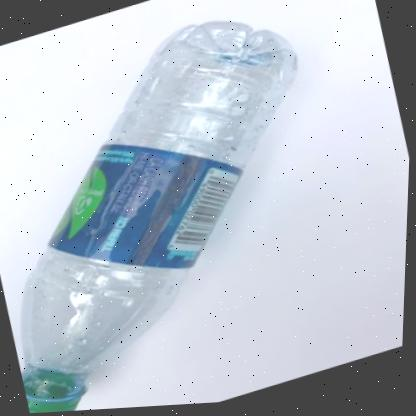Plastic: (24, 22, 298, 414)
